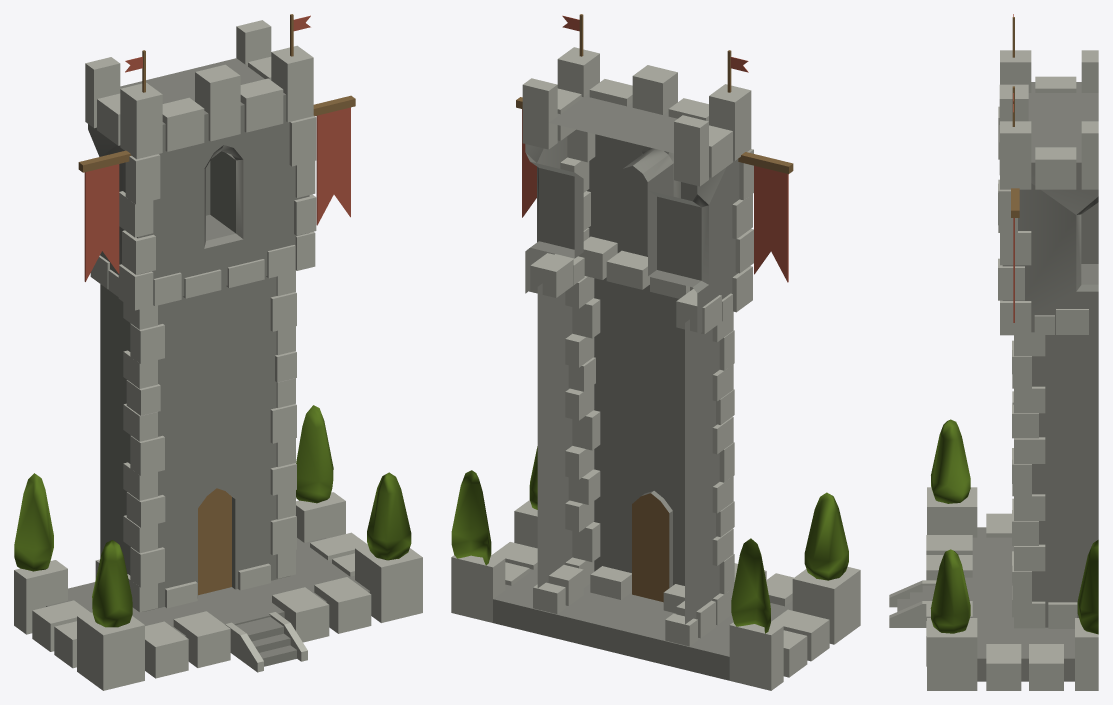
File: Buildings_Bomb.fbx
The picture shows the model from 3 angles, left to right: view 1: azimuth 30°, elevation 25°; view 2: azimuth 150°, elevation 25°; view 3: azimuth 270°, elevation 25°; orthographic projection. The views are drawn at different scales.
Visible parts, largest first — view 1: Bomb_Corner_Mirror, Bomb_Corner; view 2: Bomb_Corner_Mirror, Bomb_Corner; view 3: Bomb_Corner, Bomb_Corner_Mirror.
Boxes of the visible parts, bbox=[...] form: Bomb_Corner_Mirror: bbox=[14, 50, 278, 690]; Bomb_Corner: bbox=[174, 14, 422, 662]; Bomb_Corner_Mirror: bbox=[611, 50, 860, 690]; Bomb_Corner: bbox=[451, 14, 662, 651]; Bomb_Corner: bbox=[889, 86, 1098, 690]; Bomb_Corner_Mirror: bbox=[889, 14, 1098, 607].
Bounding box in the file's own units: 329 × 576 × 194.
